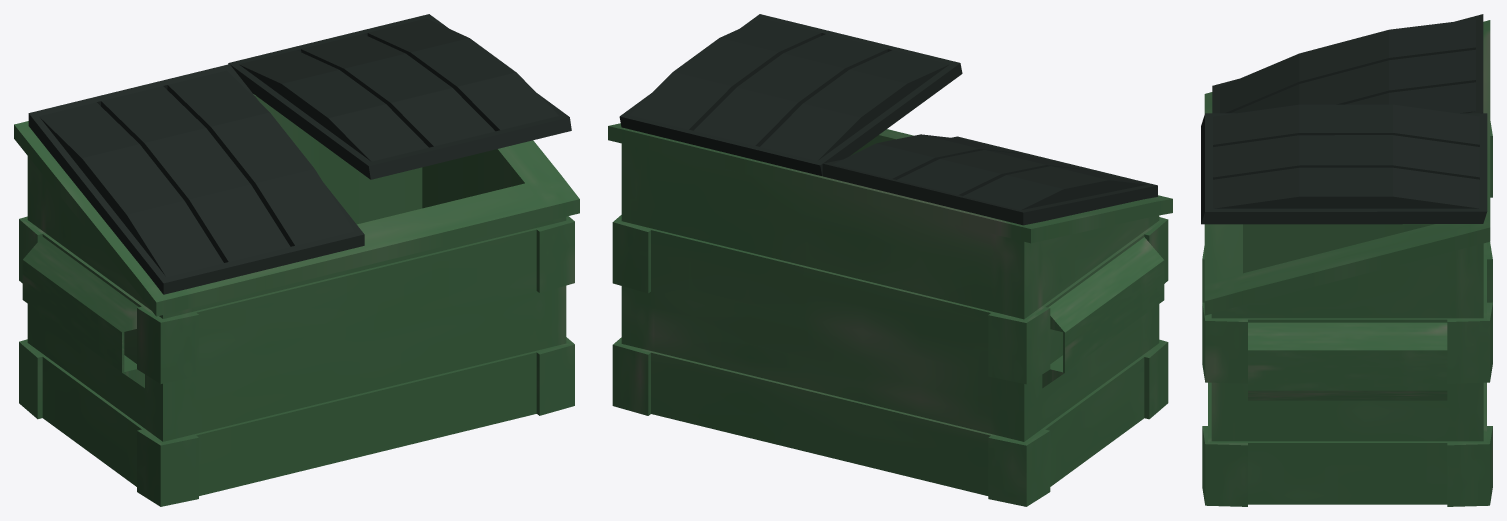
The model's file is group_trashbox.fbx.
3 views of the same model, side by side, from view 1: azimuth 30°, elevation 25°; view 2: azimuth 150°, elevation 25°; view 3: azimuth 270°, elevation 25° (orthographic).
Parts seen in each view (by area): view 1: obj_trashbox, obj_trashbox_door_1, obj_trashbox_door_2; view 2: obj_trashbox, obj_trashbox_door_2, obj_trashbox_door_1; view 3: obj_trashbox, obj_trashbox_door_2, obj_trashbox_door_1.
Boxes of the visible parts, bbox=[...] form: obj_trashbox: bbox=[14, 94, 579, 506]; obj_trashbox_door_1: bbox=[28, 64, 364, 294]; obj_trashbox_door_2: bbox=[228, 14, 571, 179]; obj_trashbox: bbox=[608, 123, 1172, 506]; obj_trashbox_door_2: bbox=[619, 14, 962, 175]; obj_trashbox_door_1: bbox=[822, 134, 1157, 225]; obj_trashbox: bbox=[1202, 20, 1492, 506]; obj_trashbox_door_2: bbox=[1201, 104, 1487, 224]; obj_trashbox_door_1: bbox=[1212, 14, 1483, 113].
Bounding box in the file's own units: 2.7 × 1.74 × 1.51.
1 material, 1 textured.
